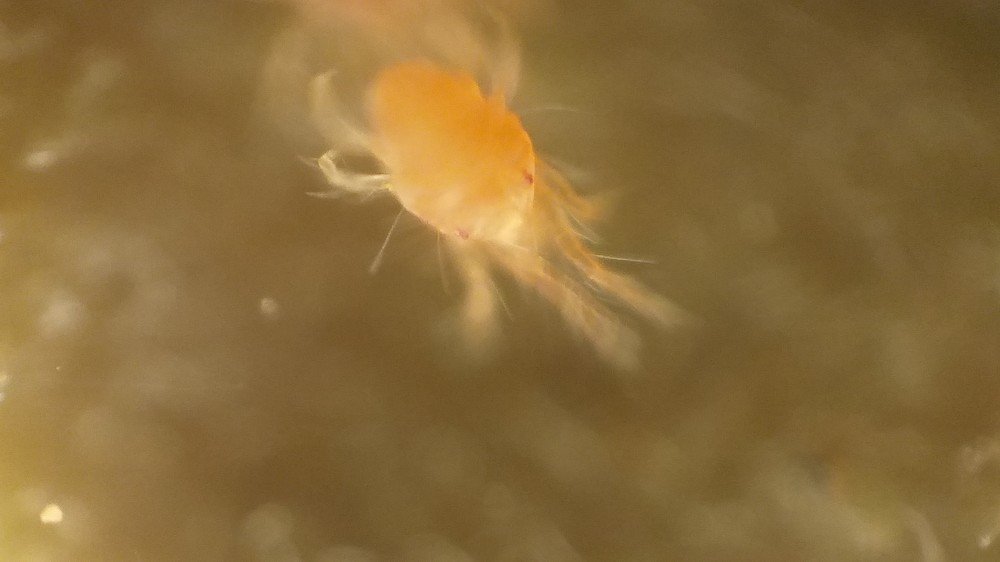Aracnido Rojo: (303, 11, 709, 394)
